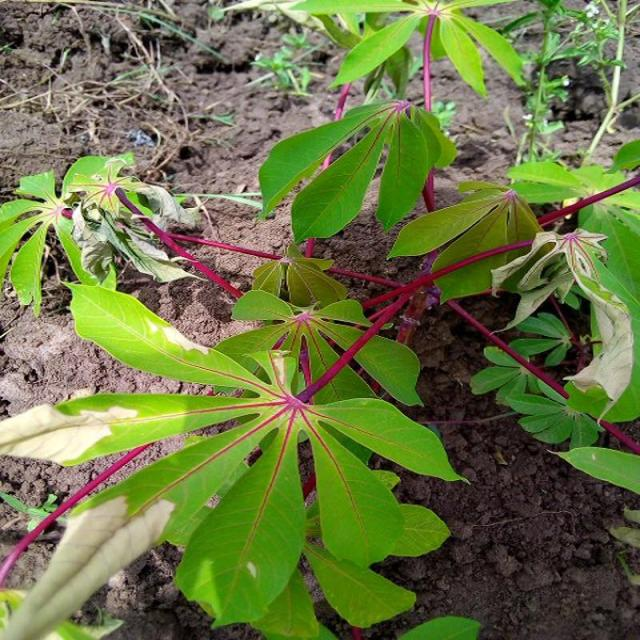cassava leaf: (4, 248, 470, 637), (257, 97, 456, 243), (173, 416, 306, 629)
